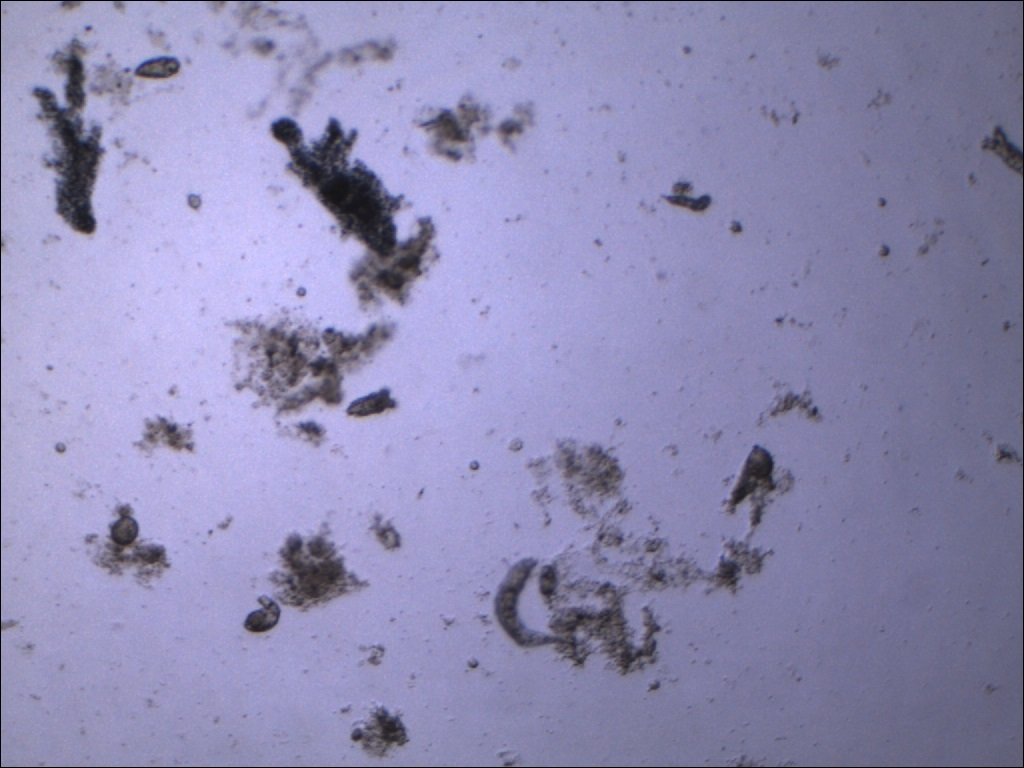amoeba: (261, 109, 405, 261), (26, 49, 112, 243)
